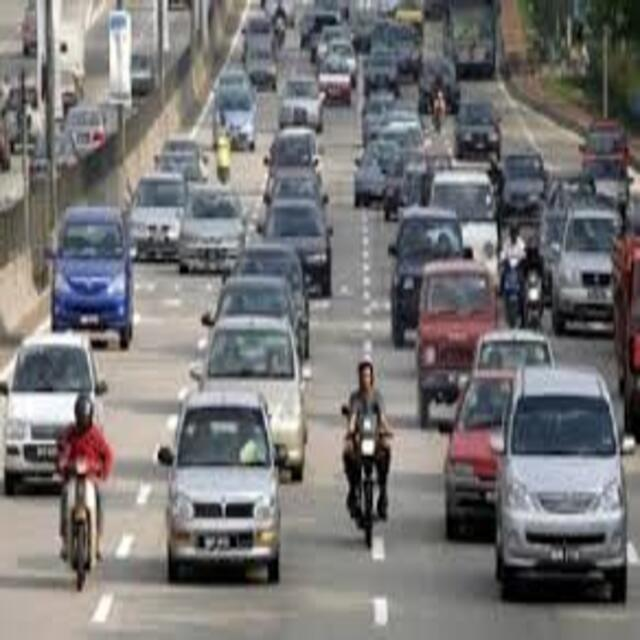car: (494, 361, 634, 610), (156, 389, 286, 576), (199, 314, 310, 473), (0, 334, 98, 489), (409, 266, 513, 401), (444, 366, 526, 534), (49, 207, 139, 346), (386, 202, 471, 344), (209, 268, 318, 371), (551, 207, 626, 321), (253, 196, 339, 284), (173, 176, 240, 267), (125, 171, 185, 255)
motorcycle: (329, 409, 406, 550), (49, 452, 110, 588)
